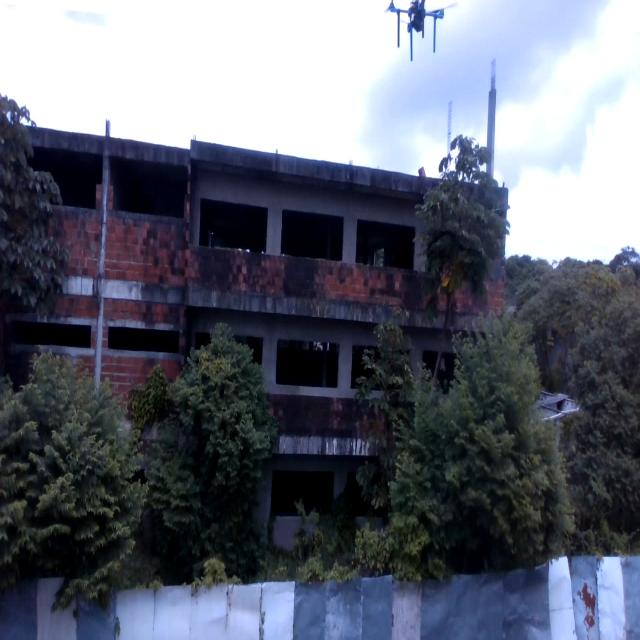-uav-: (384, 0, 454, 67)
